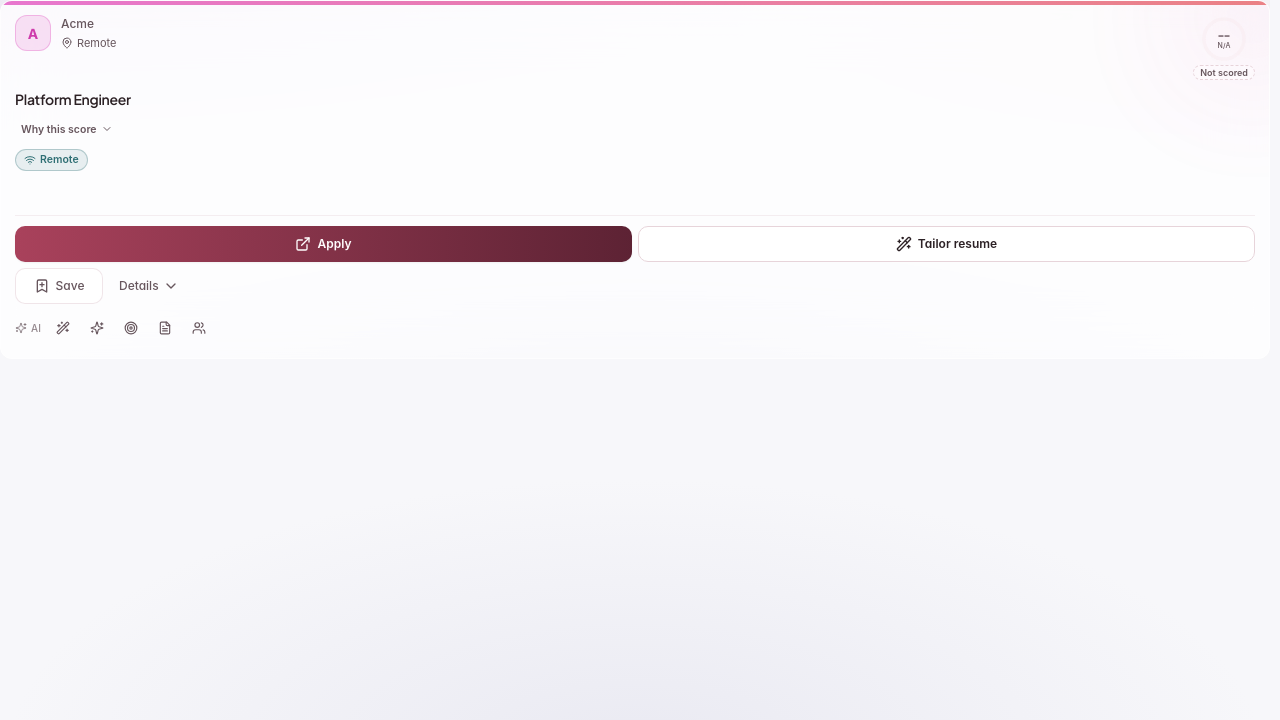
Test: JobCard apply confirmation › Tailor resume shows a spinner while the handoff is in flight
Click the button "Tailor resume" at (946, 244), box x1=638 y1=226 x2=1255 y2=262
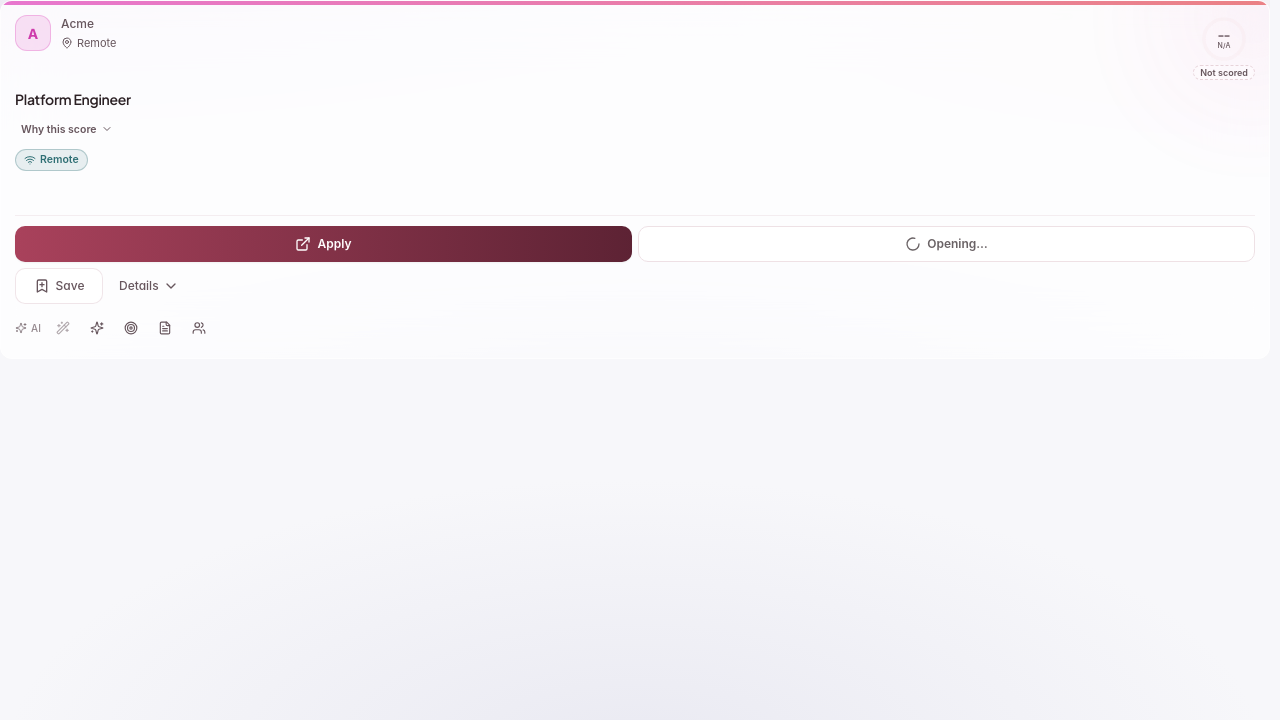
Now the button "Opening…" is disabled, box x1=638 y1=226 x2=1255 y2=262
